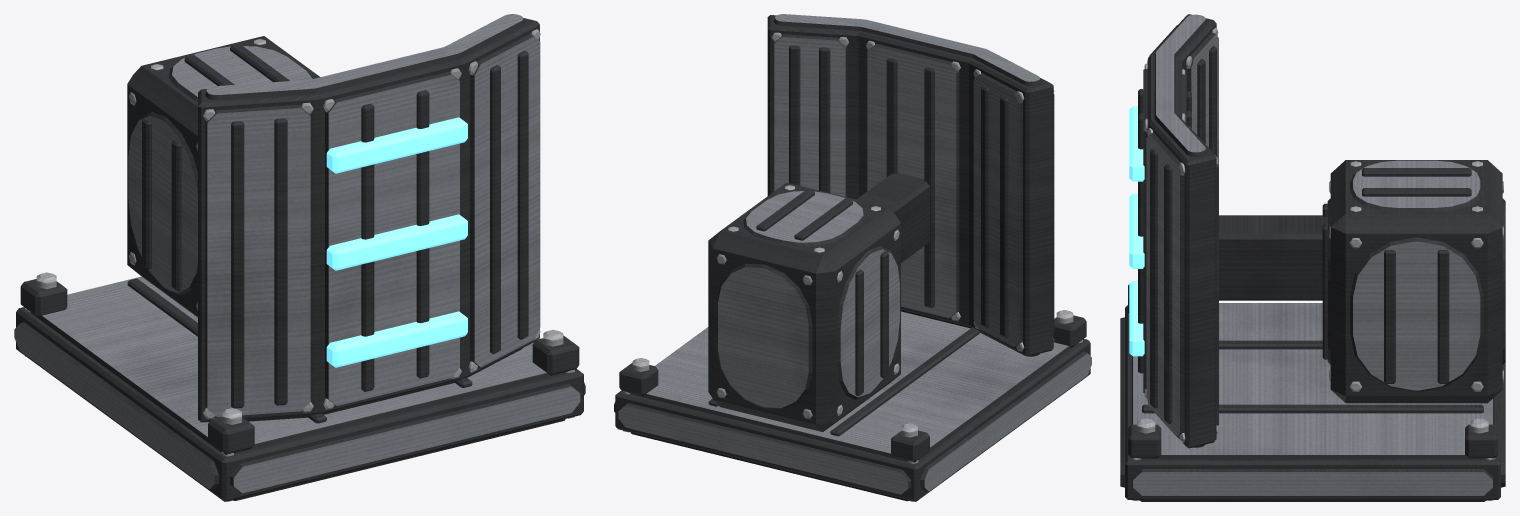
The model's file is R4X_DirectionalShield.glb.
3 renders of one model, left to right at view 1: azimuth 30°, elevation 25°; view 2: azimuth 150°, elevation 25°; view 3: azimuth 270°, elevation 25°, orthographic. The views are drawn at different scales.
Parts seen in each view (by area): view 1: R4X_DirectionalShield_Body; view 2: R4X_DirectionalShield_Body; view 3: R4X_DirectionalShield_Body.
Boxes of the visible parts, x1,y1,x2,y2 form: R4X_DirectionalShield_Body: [14, 14, 585, 501]; R4X_DirectionalShield_Body: [614, 14, 1091, 501]; R4X_DirectionalShield_Body: [1120, 14, 1505, 501].
Bounding box in the file's own units: 0.52 × 0.51 × 0.52.
4 materials, 3 textured.
